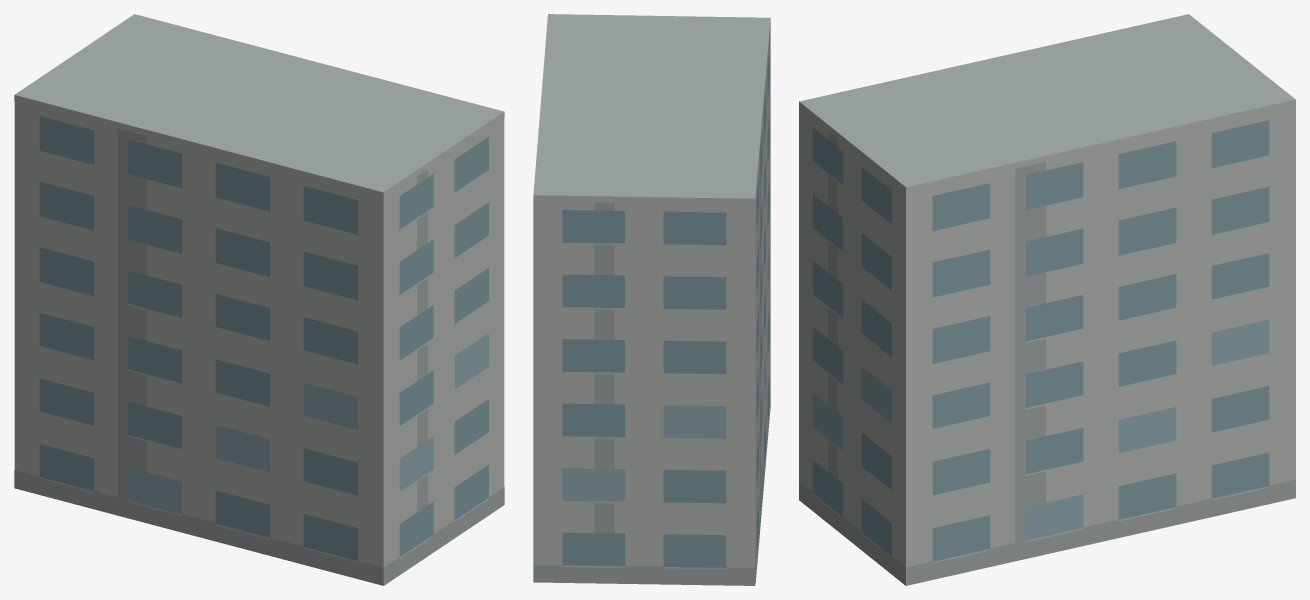
Rendered from survey-upis-32982890.glb.
3 views of the same model, side by side, from view 1: azimuth 30°, elevation 25°; view 2: azimuth 150°, elevation 25°; view 3: azimuth 270°, elevation 25° (orthographic). The views are drawn at different scales.
Parts seen in each view (by area): view 1: survey-upis-32982890.tmp; view 2: survey-upis-32982890.tmp; view 3: survey-upis-32982890.tmp.
Boxes of the visible parts, box(x1,y1,x2,y2) form: survey-upis-32982890.tmp: box(14, 14, 504, 585); survey-upis-32982890.tmp: box(533, 14, 770, 585); survey-upis-32982890.tmp: box(799, 14, 1295, 585).
Size of the model in its own units: 14.17 by 15.2 by 17.17.
